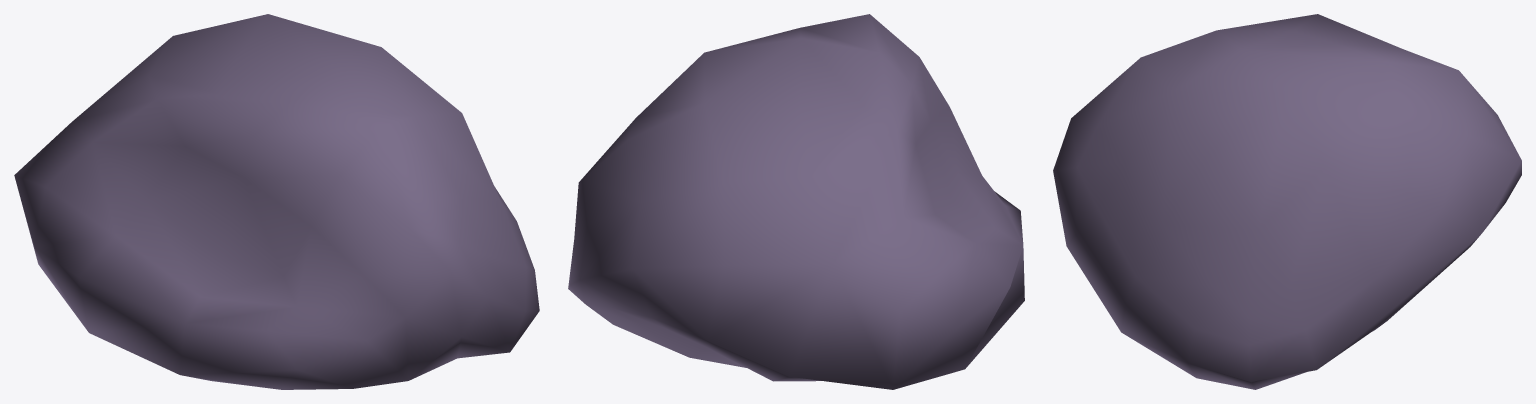
The model's file is Rock_Flat_test.FBX.
3 views of the same model, side by side, from view 1: azimuth 30°, elevation 25°; view 2: azimuth 150°, elevation 25°; view 3: azimuth 270°, elevation 25° (orthographic). The views are drawn at different scales.
Visible parts, largest first — view 1: Rock_FLAT_Test; view 2: Rock_FLAT_Test; view 3: Rock_FLAT_Test.
Boxes of the visible parts, left/top/right/bottom form: Rock_FLAT_Test: left=14, top=14, right=539, bottom=389; Rock_FLAT_Test: left=568, top=14, right=1024, bottom=389; Rock_FLAT_Test: left=1053, top=14, right=1521, bottom=389.
Bounding box in the file's own units: 6.28 × 6.61 × 4.08.
Materials: 1 (1 with a texture image).
